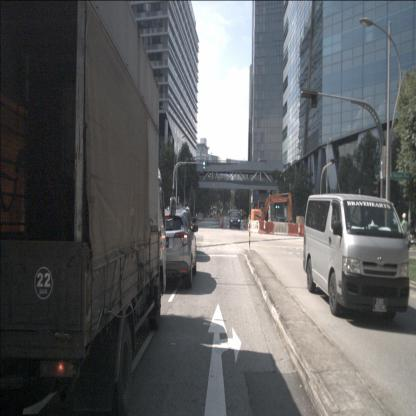movable_object-barrier: (258, 220, 274, 235), (288, 223, 305, 236), (272, 221, 289, 234), (249, 221, 258, 232)
vehicle-car: (302, 192, 410, 322), (144, 208, 196, 290), (229, 210, 241, 229), (276, 217, 285, 229)
vehicle-truck: (0, 0, 167, 416)
